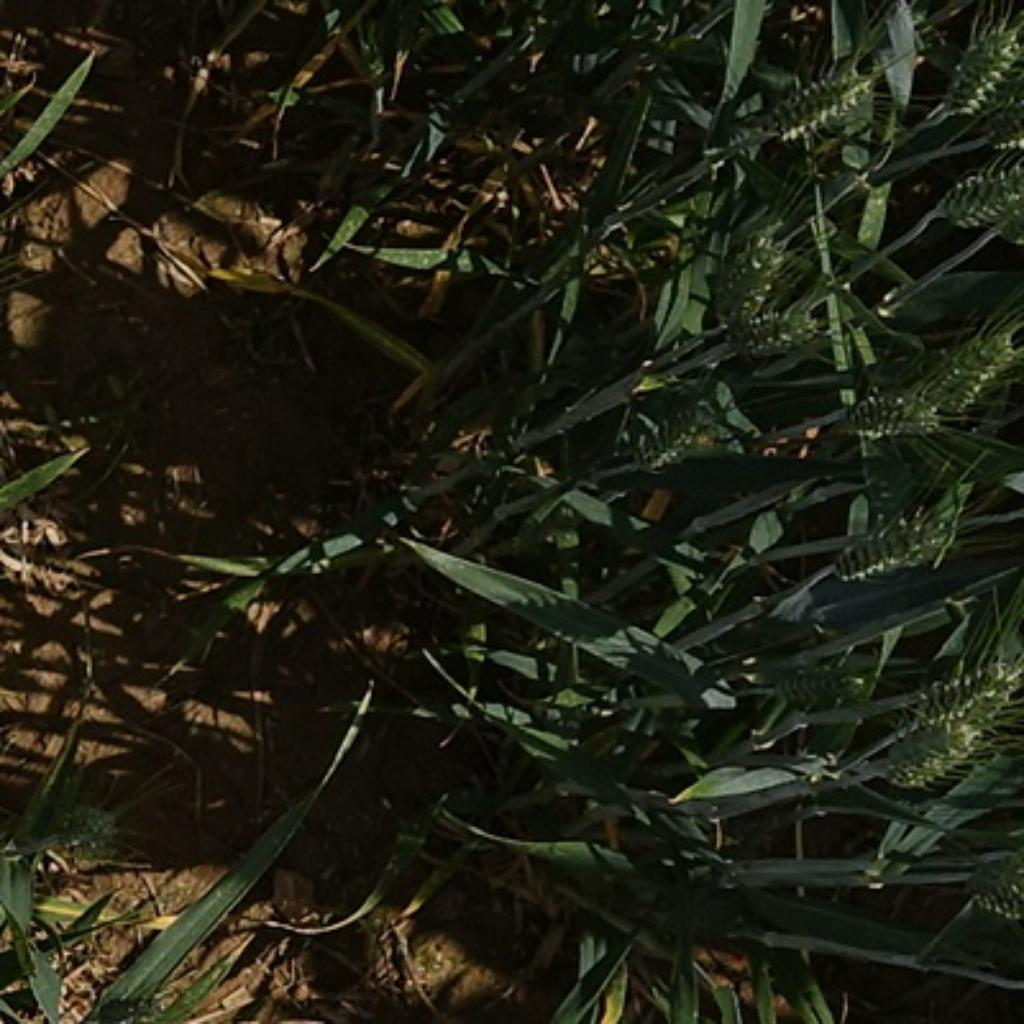0-0: (819, 498, 958, 583), (752, 62, 883, 145), (921, 314, 1024, 419), (612, 400, 739, 477), (903, 657, 1021, 737), (880, 719, 1002, 791), (724, 230, 808, 332), (832, 381, 962, 445), (943, 17, 1023, 119), (929, 158, 1018, 245), (756, 655, 868, 717), (736, 302, 825, 363), (962, 863, 1024, 924), (174, 1021, 248, 1024)
